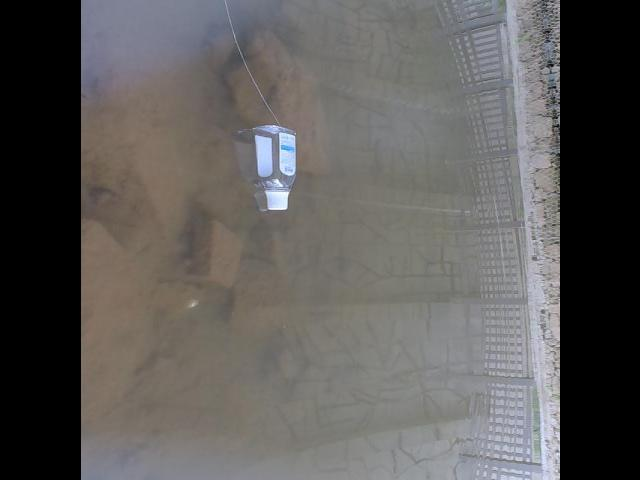Bottle: (248, 121, 298, 213)
